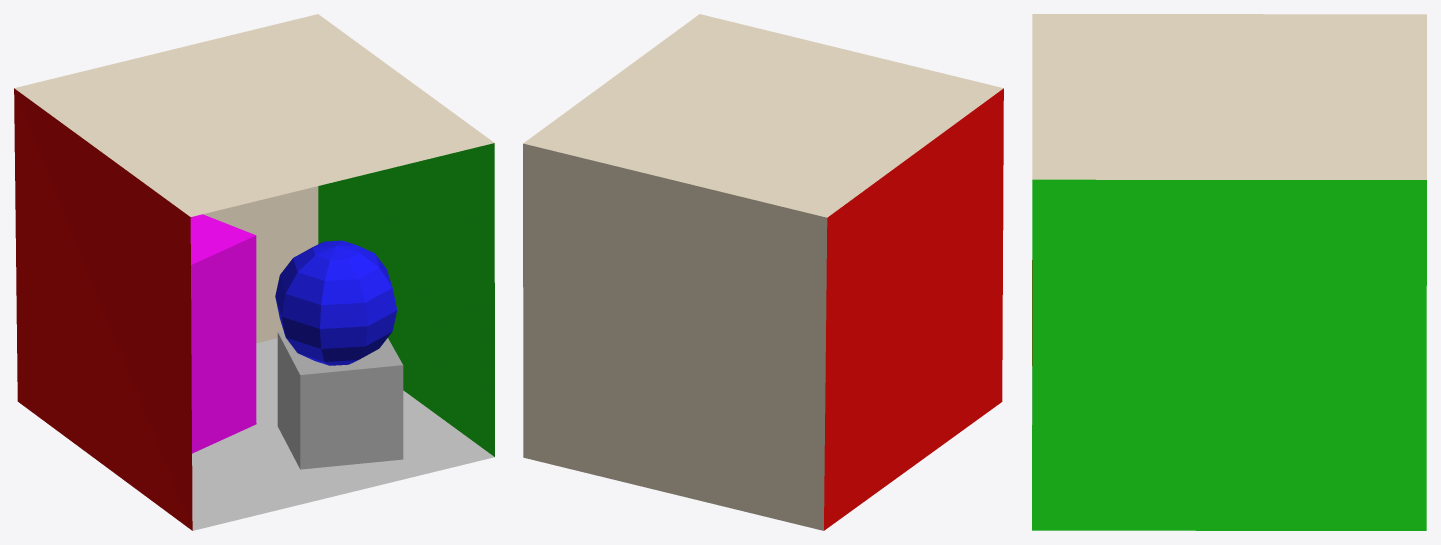
The model's file is cornell.obj.
The picture shows the model from 3 angles, left to right: view 1: azimuth 30°, elevation 25°; view 2: azimuth 150°, elevation 25°; view 3: azimuth 270°, elevation 25°; orthographic projection. The views are drawn at different scales.
Parts seen in each view (by area): view 1: left_wall, ceiling, right_wall, floor, tall_box, short_box, sphere, back_wall; view 2: back_wall, left_wall, ceiling; view 3: right_wall, ceiling.
Boxes of the visible parts, bbox=[...] form: left_wall: bbox=[14, 88, 192, 530]; ceiling: bbox=[14, 14, 494, 216]; right_wall: bbox=[318, 143, 494, 456]; floor: bbox=[192, 338, 494, 530]; tall_box: bbox=[190, 214, 256, 453]; short_box: bbox=[277, 331, 403, 469]; sphere: bbox=[275, 240, 397, 365]; back_wall: bbox=[203, 186, 318, 343]; back_wall: bbox=[523, 143, 827, 530]; left_wall: bbox=[824, 88, 1003, 530]; ceiling: bbox=[523, 14, 1003, 217]; right_wall: bbox=[1032, 179, 1426, 530]; ceiling: bbox=[1032, 14, 1426, 179].
Size of the model in its own units: 5.56 by 5.49 by 5.6.
